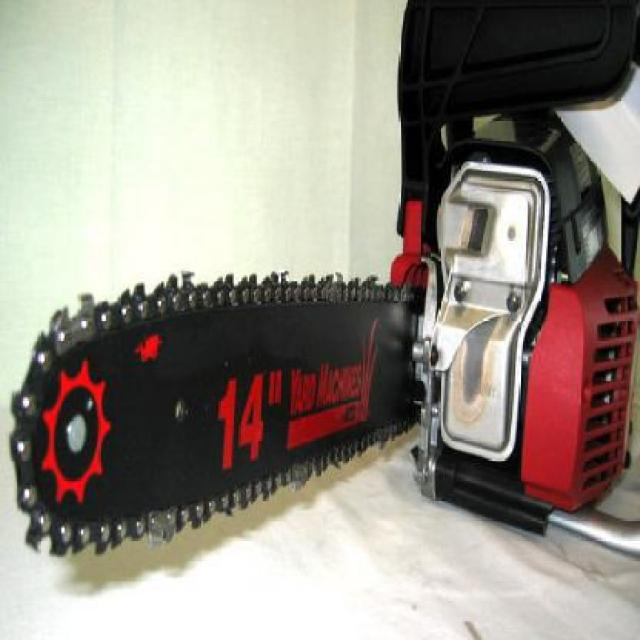Chainsaw: (6, 109, 640, 554)
